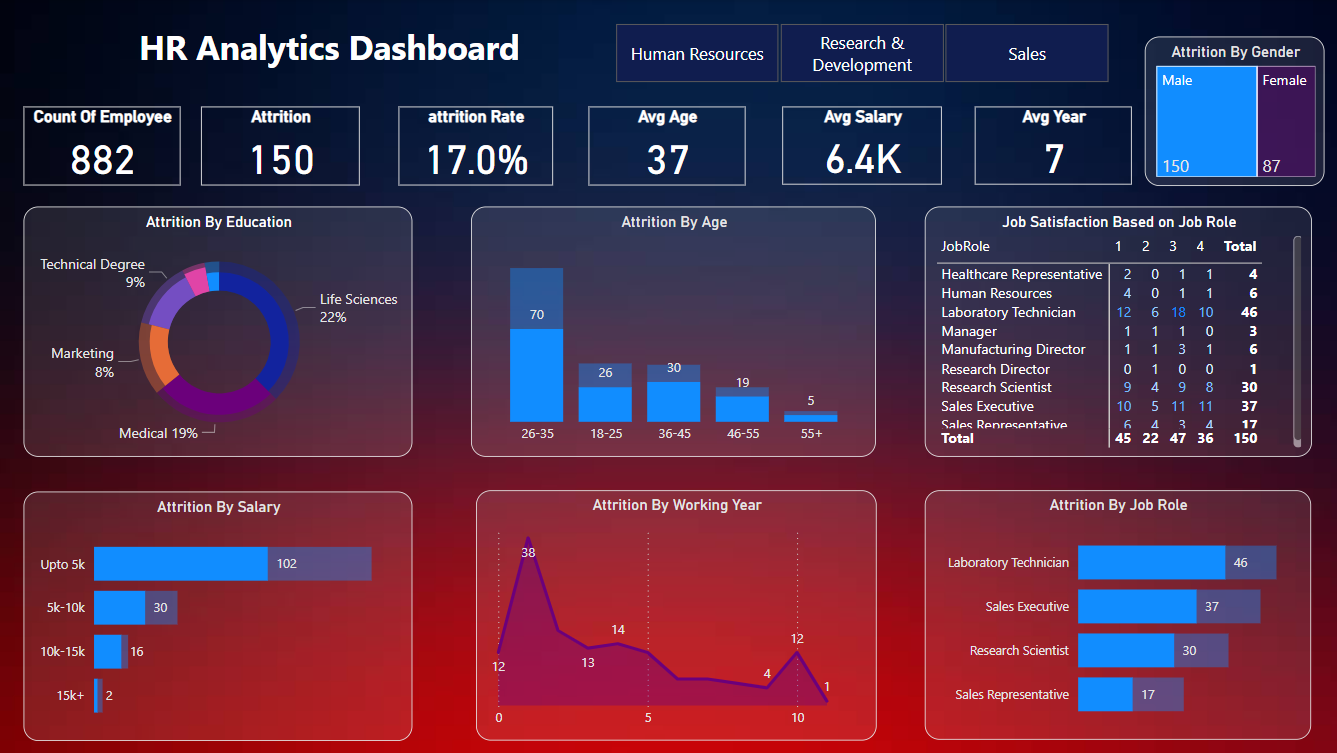

What the dashboard file says about the page in this screenshot:
{"tool":"powerbi","page":{"name":"Page 1","canvas":[1280,720],"ordinal":0},"visuals":[{"type":"card","title":"Count Of Employee","fields":{"Values":["CountNonNull(HR_Analytics.EmpID)"]},"box":[26.1,102.9,149.6,75.5],"z":0},{"type":"card","title":"Attrition","fields":{"Values":["Sum(HR_Analytics.AttritionCount)"]},"box":[194.9,102.9,150.9,75.5],"z":1000},{"type":"card","title":"attrition Rate","fields":{"Values":["HR_Analytics.AttritionRate"]},"box":[382.8,102.9,146.8,75.5],"z":2000},{"type":"card","title":"Avg Age","fields":{"Values":["Avg(HR_Analytics.Age)"]},"box":[564,102.9,149.6,75.5],"z":3000},{"type":"card","title":"Avg Salary","fields":{"Values":["Avg(HR_Analytics.MonthlyIncome)"]},"box":[749.2,102.9,152.3,74.1],"z":4000},{"type":"card","title":"Avg Year","fields":{"Values":["Avg(HR_Analytics.YearsAtCompany)"]},"box":[931.7,102.9,149.6,74.1],"z":5000},{"type":"donutChart","title":"Attrition By Education","fields":{"Category":["HR_Analytics.EducationField"],"Y":["Sum(HR_Analytics.AttritionCount)"]},"box":[26.1,197.6,370.5,238.8],"z":6000},{"type":"columnChart","title":"Attrition By Age","fields":{"Category":["HR_Analytics.AgeGroup"],"Y":["Sum(HR_Analytics.AttritionCount)"]},"box":[452.8,197.6,385.6,238.8],"z":7000},{"type":"pivotTable","title":"Job Satisfaction Based on Job Role","fields":{"Rows":["HR_Analytics.JobRole"],"Columns":["HR_Analytics.JobSatisfaction"],"Values":["Sum(HR_Analytics.AttritionCount)"]},"box":[885.1,197.6,369.1,238.8],"z":8000},{"type":"barChart","title":"Attrition By Salary","fields":{"Category":["HR_Analytics.SalarySlab"],"Y":["Sum(HR_Analytics.AttritionCount)"]},"box":[26.1,469.3,370.5,237.4],"z":9000},{"type":"barChart","title":"Attrition By Job Role","fields":{"Category":["HR_Analytics.JobRole"],"Y":["Sum(HR_Analytics.AttritionCount)"]},"box":[885.1,467.9,367.8,237.4],"z":10000},{"type":"areaChart","title":"Attrition By Working Year","fields":{"Category":["HR_Analytics.YearsAtCompany"],"Y":["Sum(HR_Analytics.AttritionCount)"]},"box":[456.9,467.9,381.5,238.8],"z":11000},{"type":"treemap","title":"Attrition By Gender","fields":{"Group":["HR_Analytics.Gender"],"Values":["Sum(HR_Analytics.AttritionCount)"]},"box":[1093.7,35.7,171.5,142.7],"z":12000},{"type":"slicer","fields":{"Values":["HR_Analytics.Department"]},"box":[564,19.2,517.3,67.2],"z":13000},{"type":"textbox","box":[28.8,19.2,577.7,70],"z":13001}]}

Visuals, with their boxes in screenshot pixels (x1, y1, x2, y2), scaled from the page's 1280x720 canvas onto the 1337x753 screenshot:
"Count Of Employee" card: (27, 108, 184, 187)
"Attrition" card: (204, 108, 361, 187)
"attrition Rate" card: (400, 108, 553, 187)
"Avg Age" card: (589, 108, 745, 187)
"Avg Salary" card: (783, 108, 942, 185)
"Avg Year" card: (973, 108, 1129, 185)
"Attrition By Education" donutChart: (27, 207, 414, 456)
"Attrition By Age" columnChart: (473, 207, 876, 456)
"Job Satisfaction Based on Job Role" pivotTable: (925, 207, 1310, 456)
"Attrition By Salary" barChart: (27, 491, 414, 739)
"Attrition By Job Role" barChart: (925, 489, 1309, 738)
"Attrition By Working Year" areaChart: (477, 489, 876, 739)
"Attrition By Gender" treemap: (1142, 37, 1322, 187)
slicer - HR_Analytics.Department: (589, 20, 1129, 90)
textbox: (30, 20, 634, 93)
